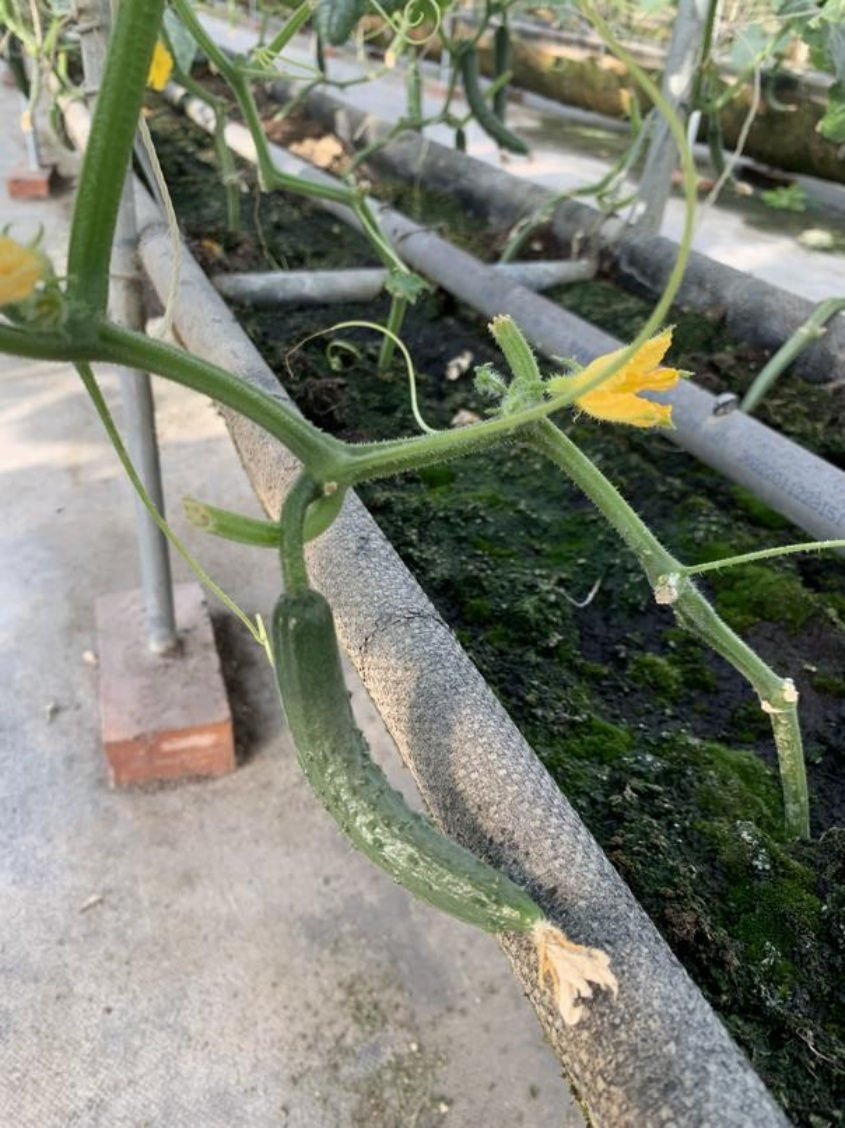growth: (262, 583, 593, 966)
